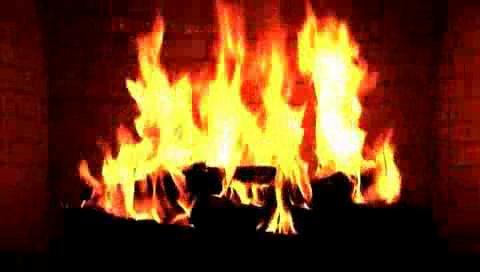fire: (86, 9, 413, 225)
